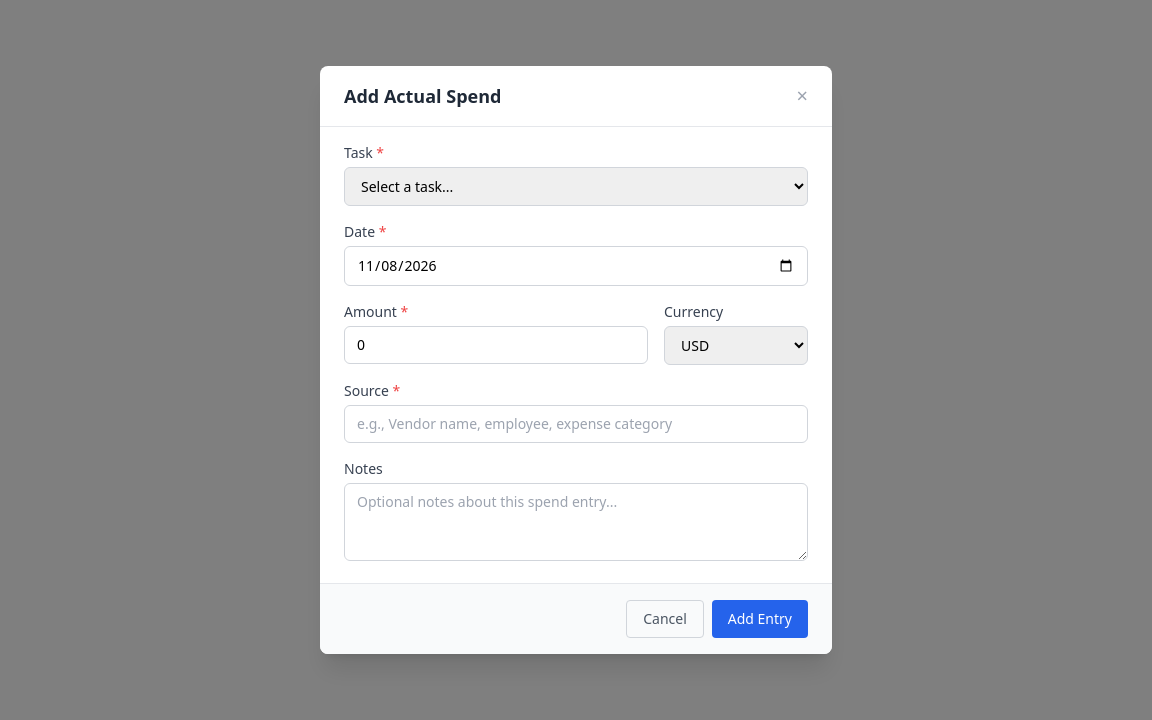
Test: ActualsEditorModal › create mode › shows validation error when saving without required fields
This screenshot has width=1152, height=720.
Click the button "Add Entry" at (760, 619), box [712,600,808,638]
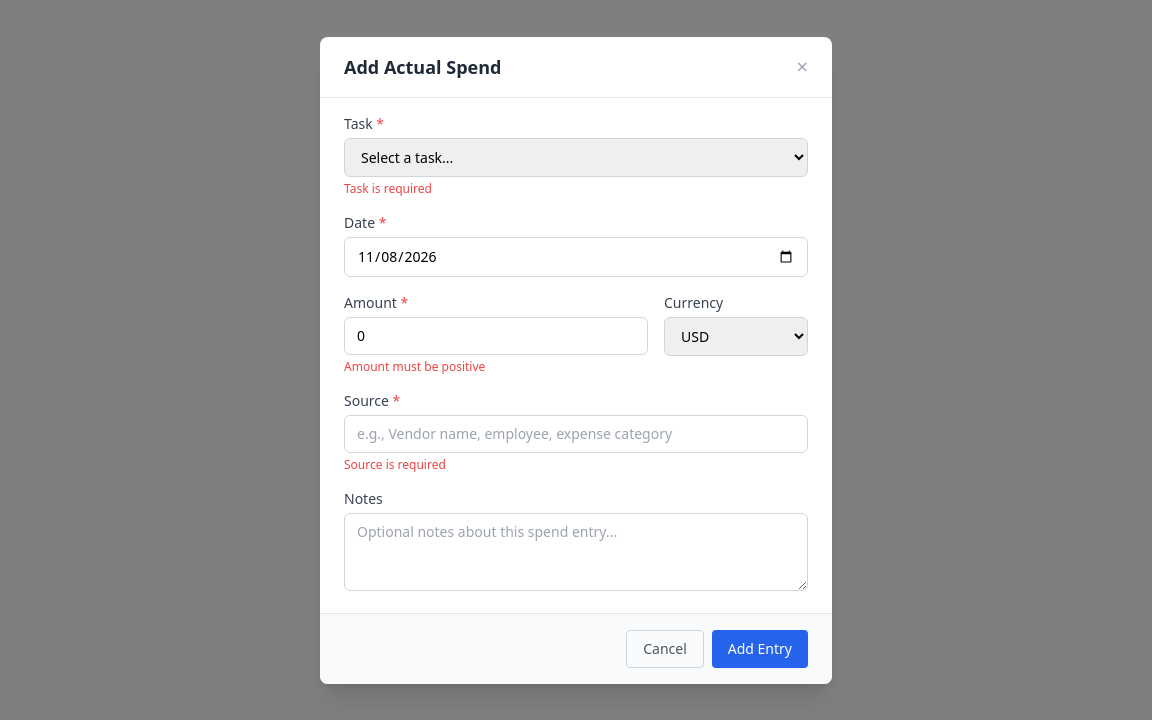
Expected: the text "Task is required" is shown, [344,180,432,196]
